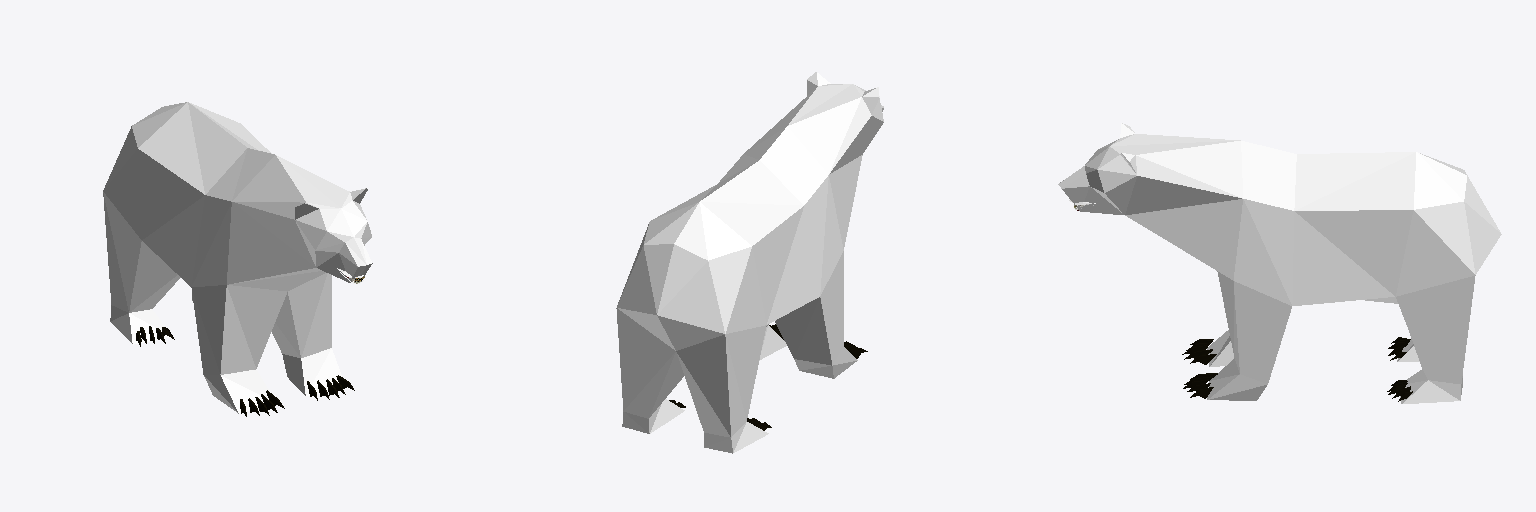
3 renders of one model, left to right at view 1: azimuth 30°, elevation 25°; view 2: azimuth 150°, elevation 25°; view 3: azimuth 270°, elevation 25°, orthographic.
Visible parts, largest first — view 1: male; view 2: male; view 3: male.
Boxes of the visible parts, x1,y1,x2,y2 form: male: [103, 102, 372, 416]; male: [616, 72, 883, 453]; male: [1058, 123, 1501, 403].
Bounding box in the file's own units: 0.9764 × 1.77 × 3.01.
6 materials, 1 textured.